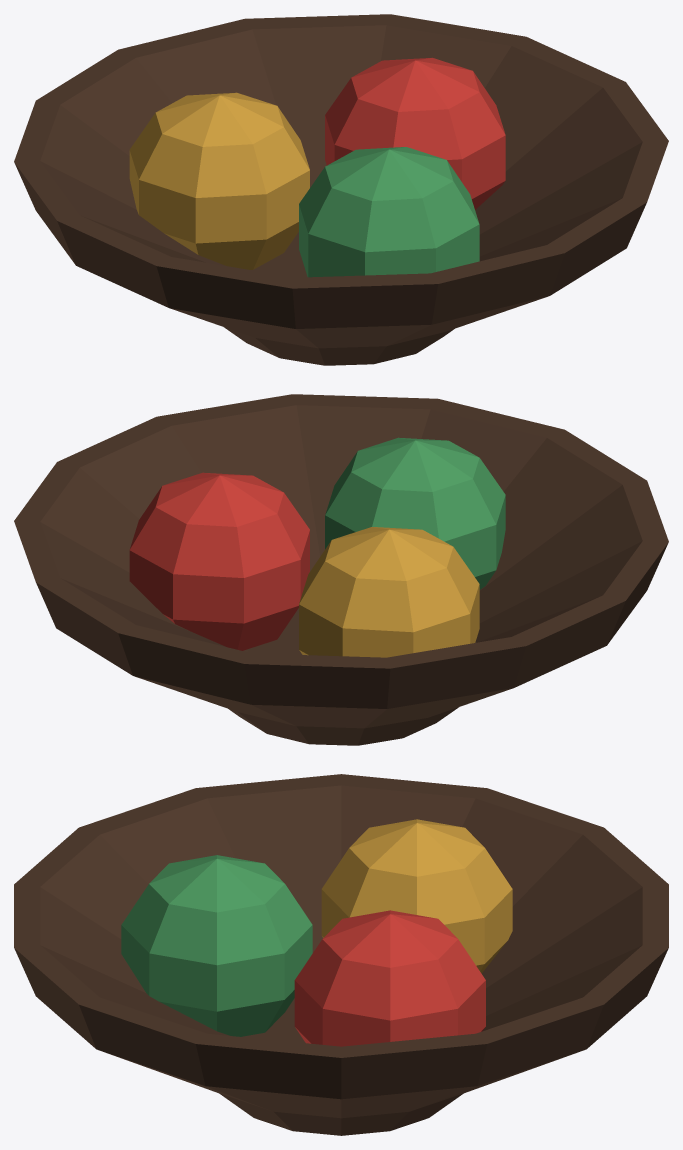
File: FN_Bowl_Fruit.glb
3 renders of one model, top to bottom at view 1: azimuth 30°, elevation 25°; view 2: azimuth 150°, elevation 25°; view 3: azimuth 270°, elevation 25°, orthographic. The views are drawn at different scales.
Parts seen in each view (by area): view 1: FN_Bowl_Fruit; view 2: FN_Bowl_Fruit; view 3: FN_Bowl_Fruit.
Part boxes in pixels (bbox=[...]): FN_Bowl_Fruit: bbox=[14, 14, 668, 365]; FN_Bowl_Fruit: bbox=[14, 394, 668, 745]; FN_Bowl_Fruit: bbox=[14, 774, 668, 1135].
Bounding box in the file's own units: 0.3 × 0.11 × 0.2925.
1 material, 1 textured.
